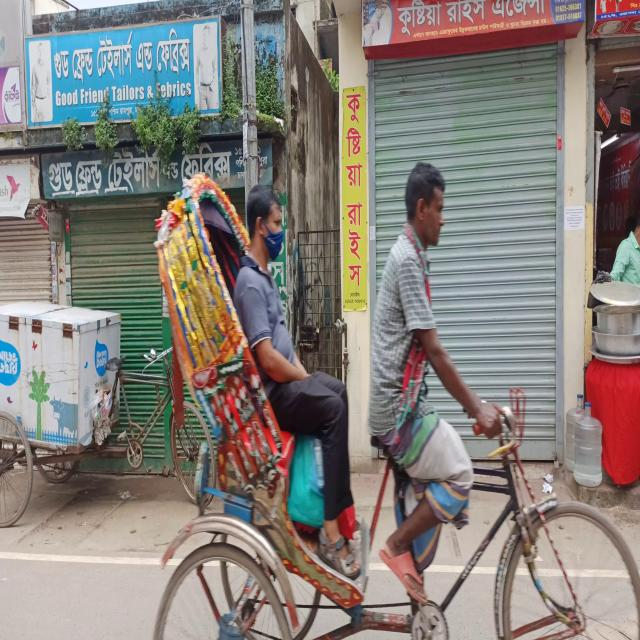car: (158, 154, 622, 634)
